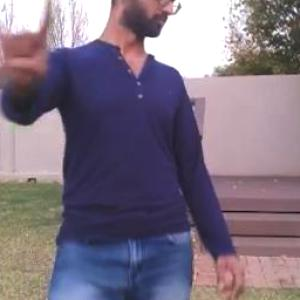takeoff-hand: (0, 0, 65, 95)
